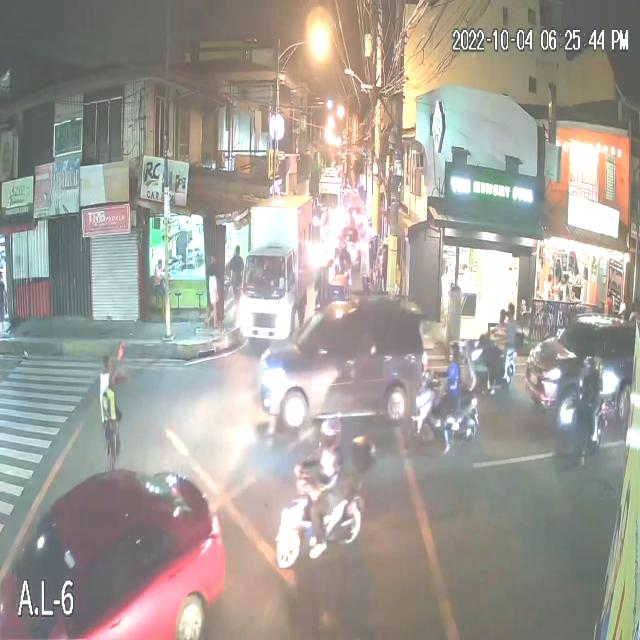Full-Faced: (319, 411, 343, 451), (580, 356, 594, 379), (506, 299, 517, 320)
Half-Faced: (446, 337, 461, 362)
Not-Wearing-Helmet: (494, 306, 509, 326)
